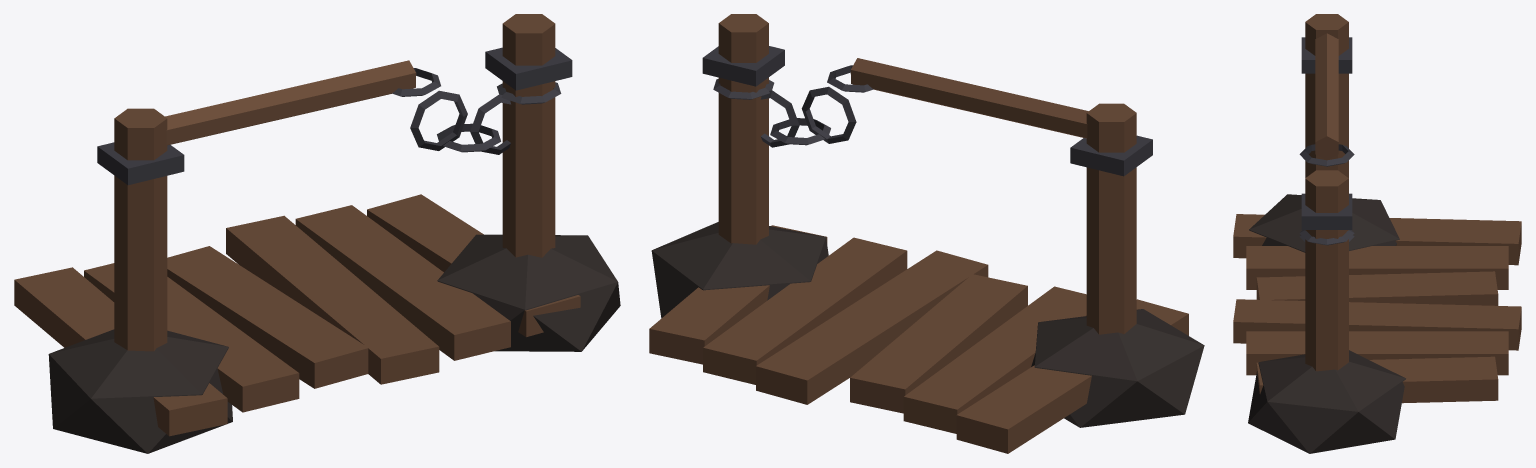
File: RimRuin_A.fbx
3 renders of one model, left to right at view 1: azimuth 30°, elevation 25°; view 2: azimuth 150°, elevation 25°; view 3: azimuth 270°, elevation 25°, orthographic. The views are drawn at different scales.
Visible parts, largest first — view 1: RimRuin_A; view 2: RimRuin_A; view 3: RimRuin_A.
Boxes of the visible parts, x1,y1,x2,y2 form: RimRuin_A: (14, 14, 620, 453); RimRuin_A: (649, 14, 1204, 453); RimRuin_A: (1233, 14, 1521, 453).
Size of the model in its own units: 1.56 by 0.88 by 0.8581.
1 material, 1 textured.
